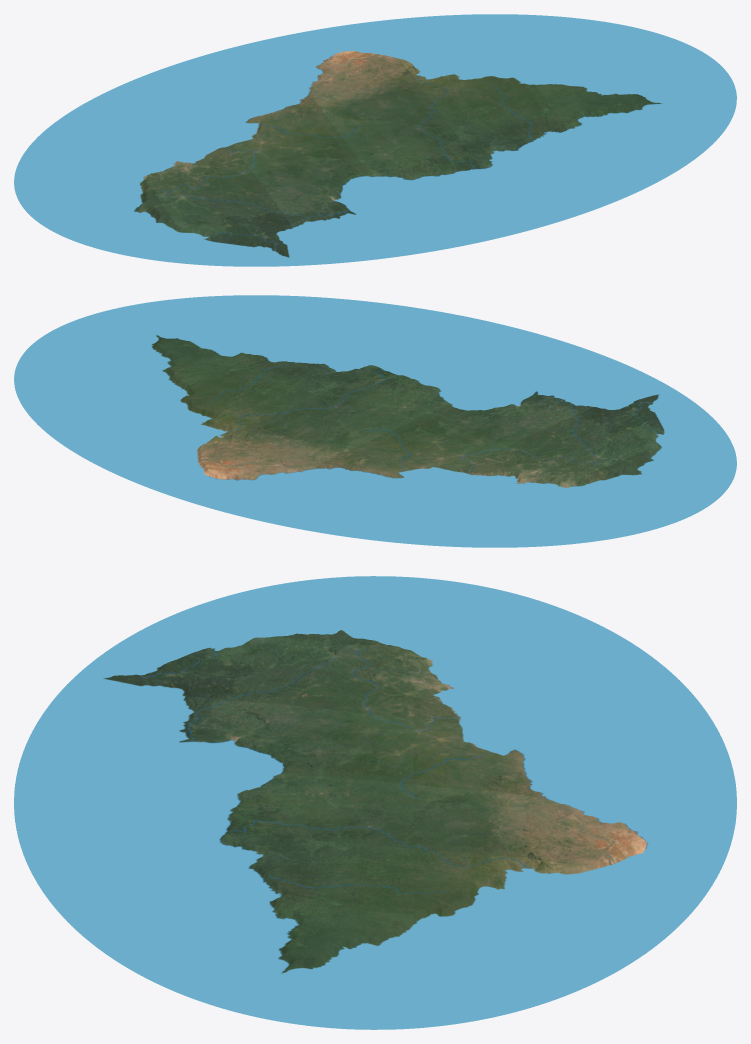
Rendered from CAF-previa-terrain.glb.
The picture shows the model from 3 angles, top to bottom: view 1: azimuth 30°, elevation 25°; view 2: azimuth 150°, elevation 25°; view 3: azimuth 270°, elevation 25°; orthographic projection. The views are drawn at different scales.
Parts seen in each view (by area): view 1: República Centro-Africana; view 2: República Centro-Africana; view 3: República Centro-Africana.
Part boxes in pixels (<box>): República Centro-Africana: <box>14,14,736,266</box>; República Centro-Africana: <box>14,295,736,547</box>; República Centro-Africana: <box>14,576,736,1029</box>.
Size of the model in its own units: 2.34 by 0.0216 by 1.57.
Materials: 1 (1 with a texture image).
